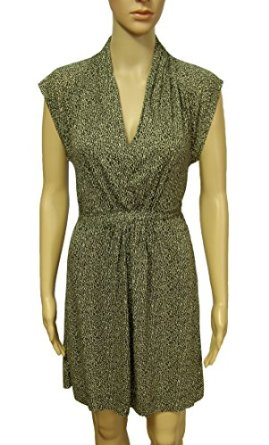C_dress: (39, 34, 235, 415)
C_skirt: (46, 213, 212, 424)
